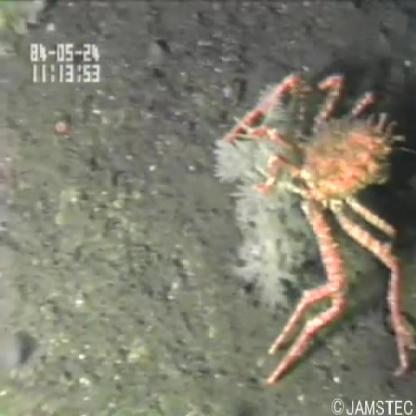Bio: (208, 60, 416, 390)
